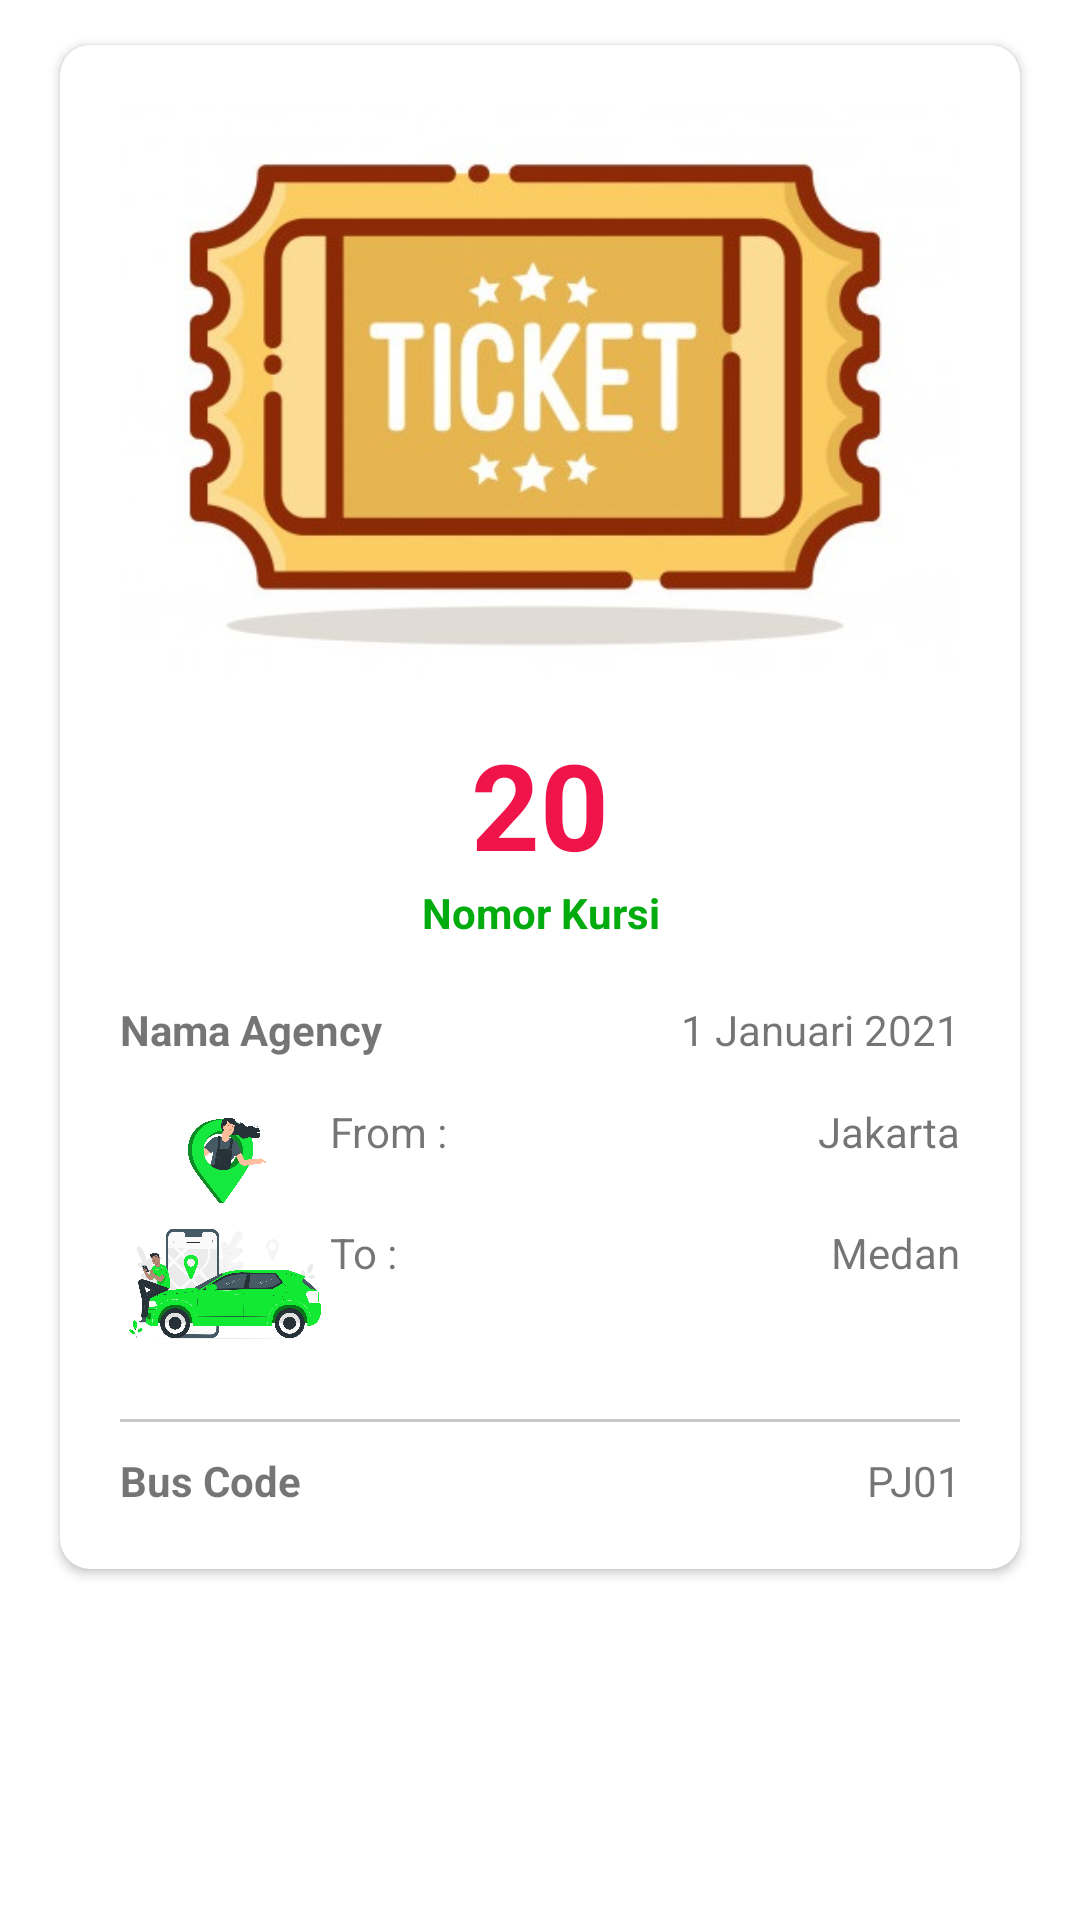

Icons on this 1080px×1920px Android screen, each with its box as bbox(x1, y1, x2, y2):
point map: bbox(150, 1118, 266, 1267)
